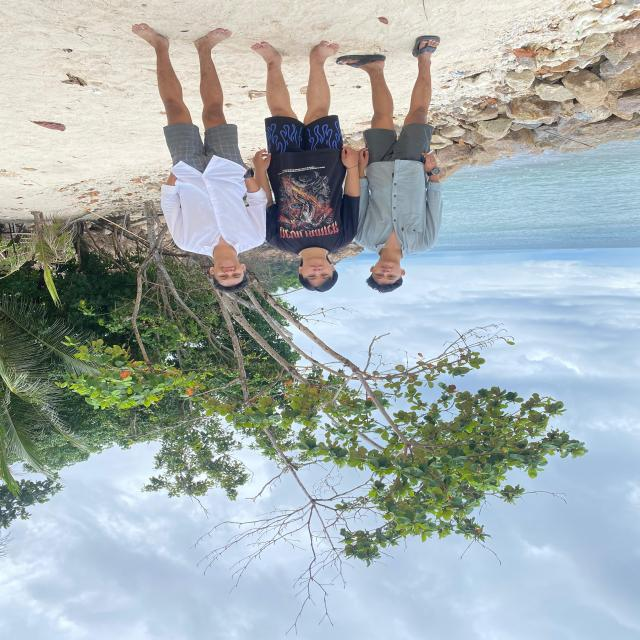nohelmet: (290, 248, 345, 296), (205, 249, 251, 298), (358, 253, 411, 294)
